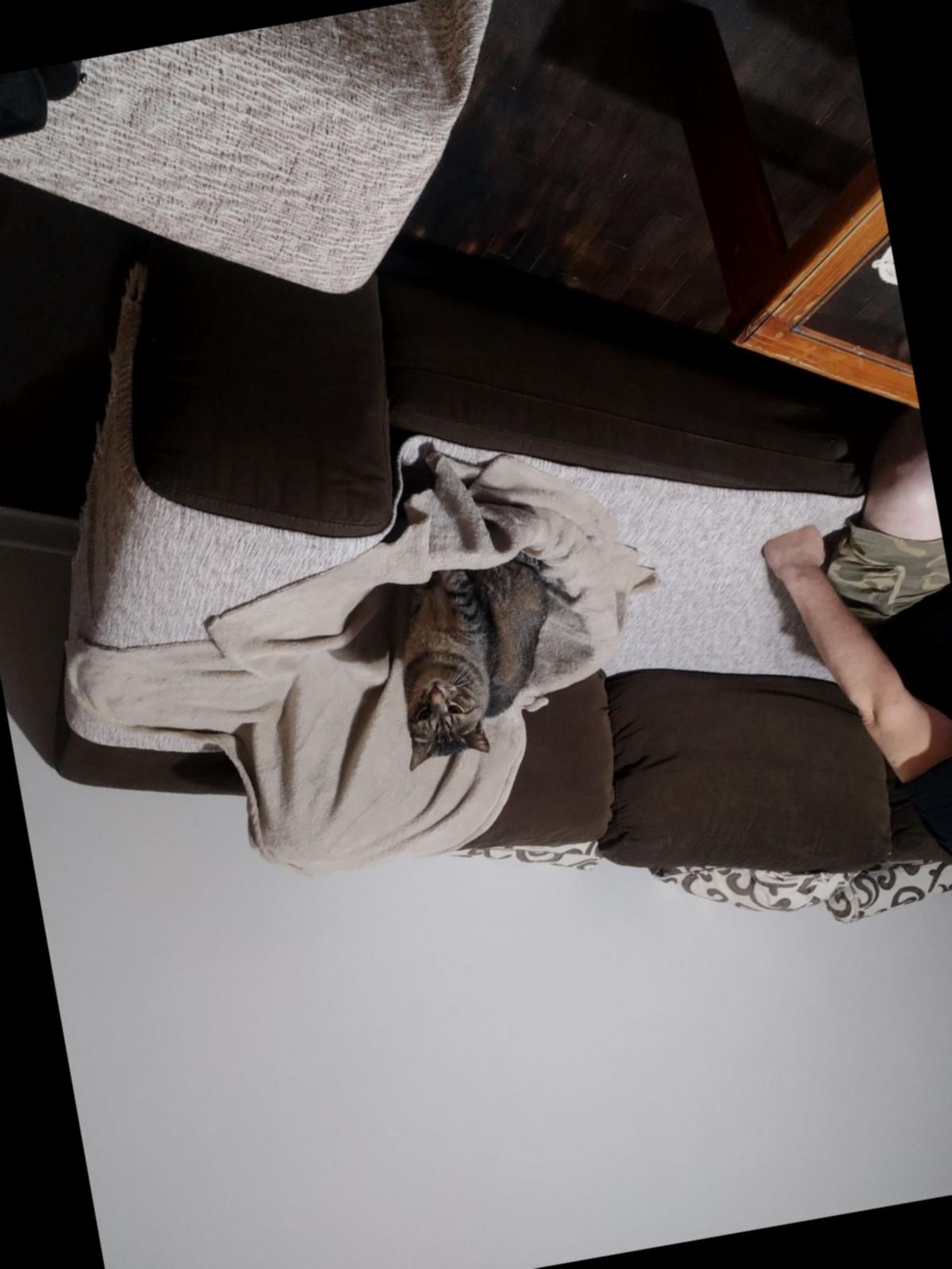macka: (373, 546, 576, 773)
